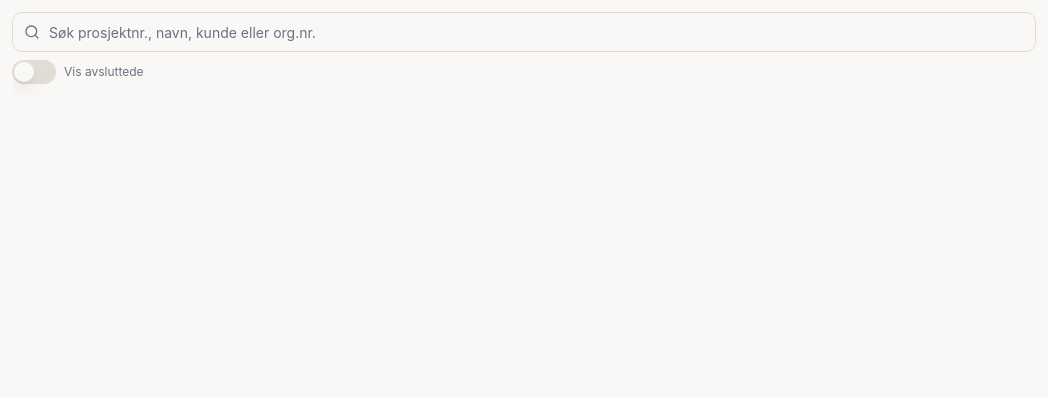
Project picker user selections › separates Test1 linked, Test2 import and matching Hub-only rows without rendering internal IDs
Type "test" into the field with placeholder "Søk prosjektnr., navn, kunde eller org.nr." at (524, 32), box top-left (12, 12), bottom-right (1036, 52)
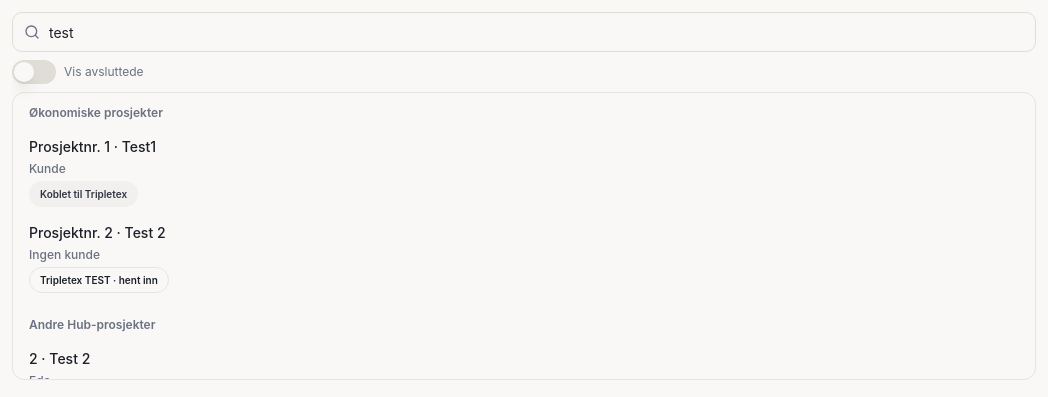
Now the button "Prosjektnr. 1 · Test1 Kunde Koblet til Tripletex" is enabled, box top-left (17, 129), bottom-right (1031, 215)
Now the button "Prosjektnr. 2 · Test 2 Ingen kunde Tripletex TEST · hent inn" is enabled, box top-left (17, 215), bottom-right (1031, 301)
